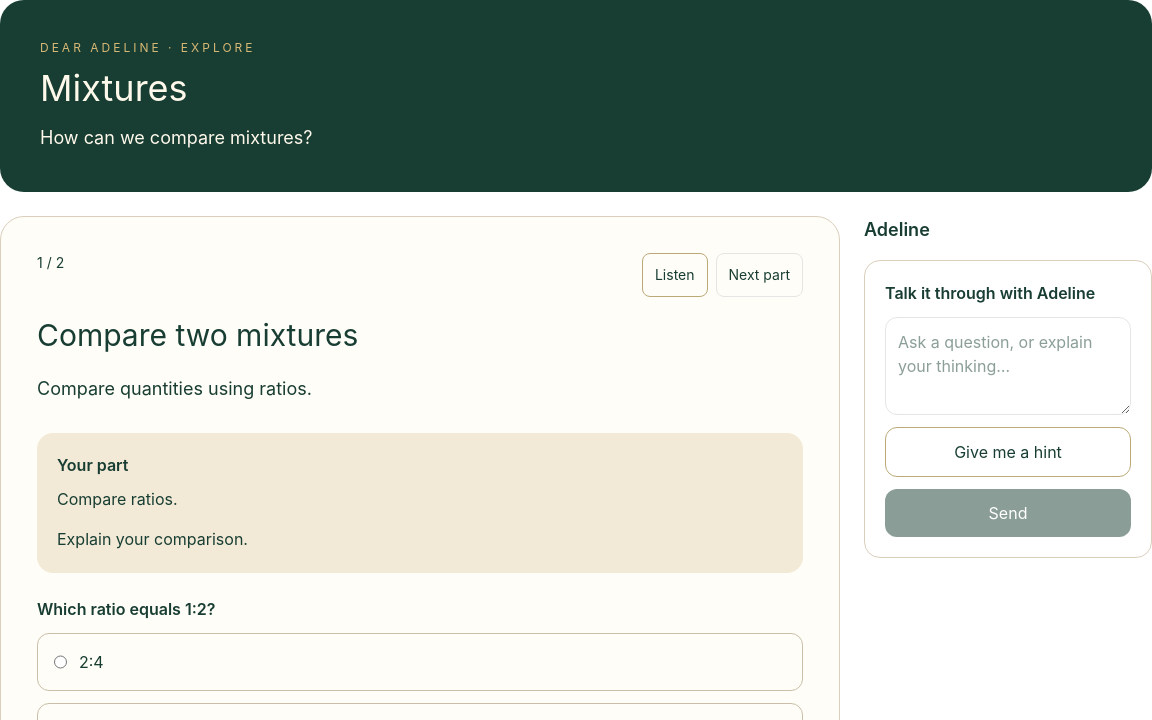
Test case: Fresh classroom › requests a small hint through the saved coaching conversation
Click the button "Give me a hint" at (1008, 452), box [885,427,1131,477]
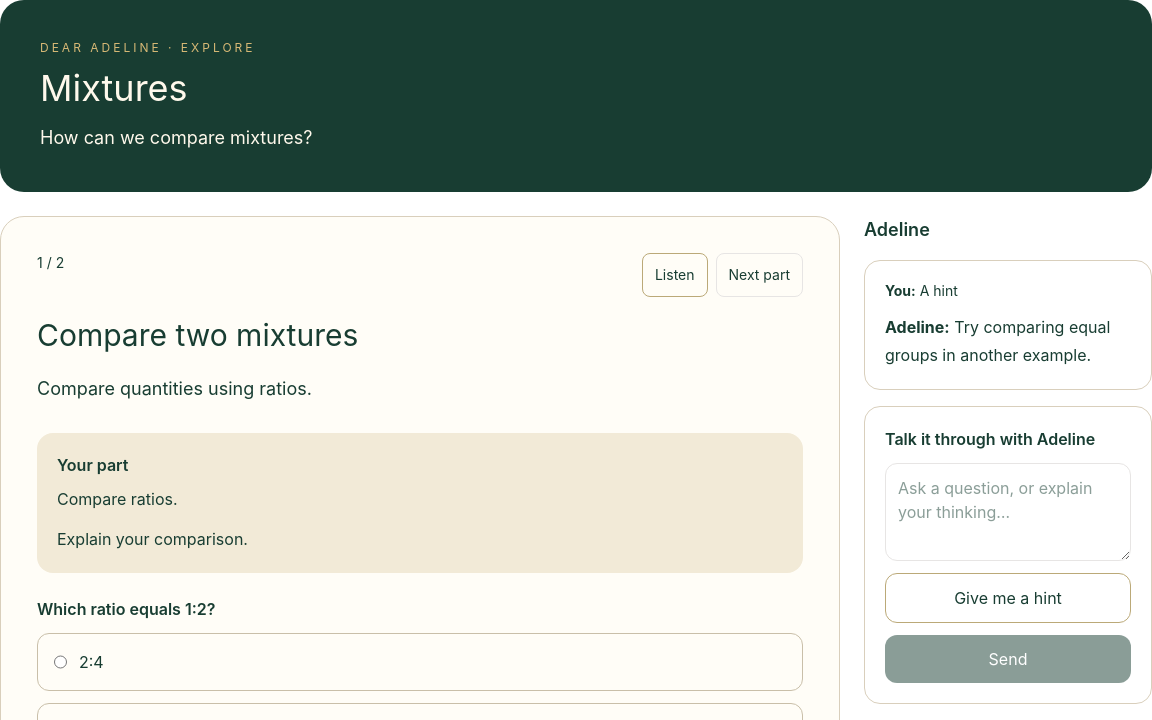
Expected: the text "Try comparing equal groups in another example." is shown, [885,317,1110,365]
